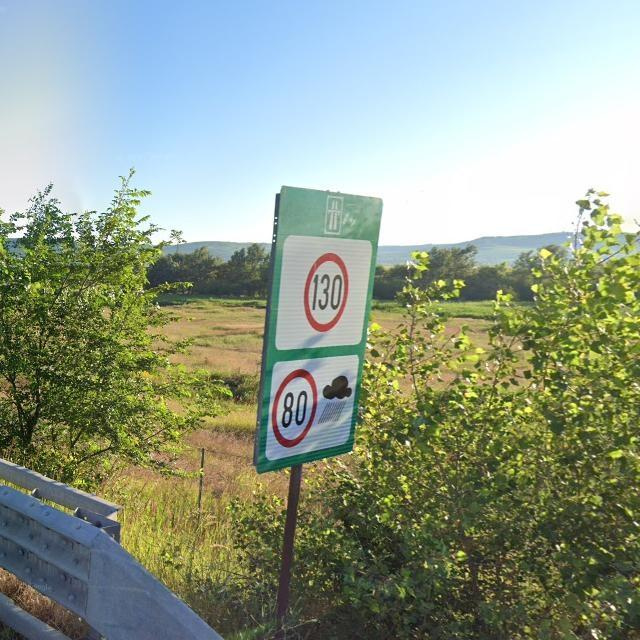forb_speed_over_80: (272, 368, 317, 448)
